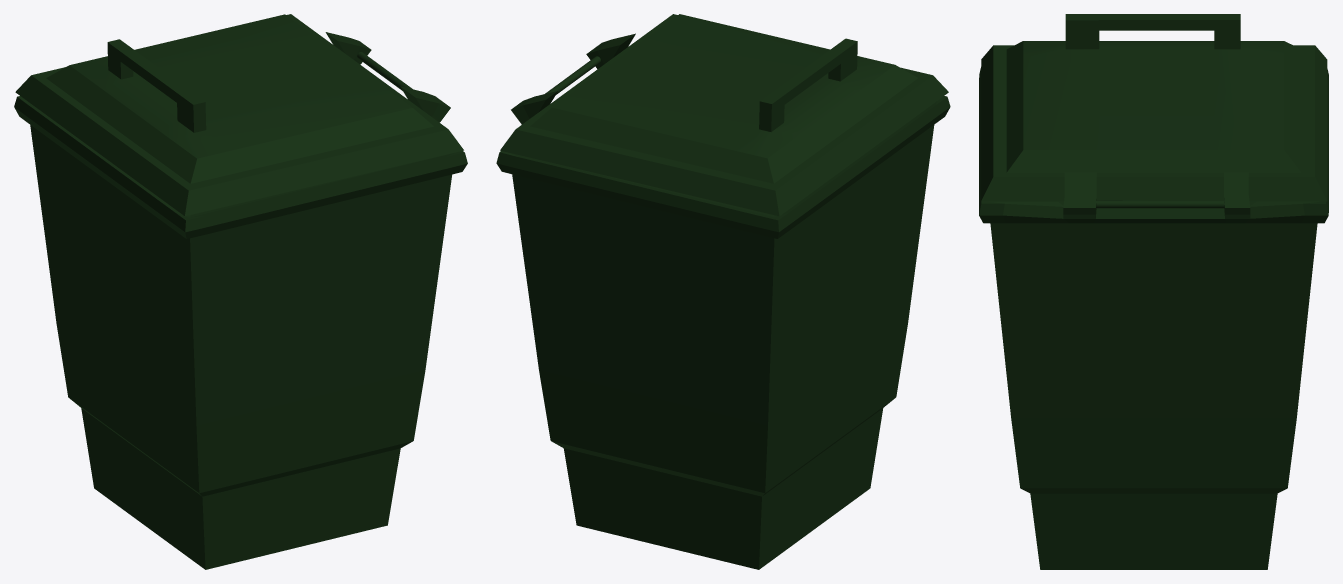
Rendered from trash_green.FBX.
3 views of the same model, side by side, from view 1: azimuth 30°, elevation 25°; view 2: azimuth 150°, elevation 25°; view 3: azimuth 270°, elevation 25° (orthographic). The views are drawn at different scales.
Visible parts, largest first — view 1: Box001, Box002; view 2: Box001, Box002; view 3: Box001, Box002, Cylinder001.
Part boxes in pixels (x1,y1,x2,y2): Box001: (14, 32, 467, 569); Box002: (15, 14, 463, 216); Box001: (496, 33, 950, 569); Box002: (500, 14, 948, 216); Box001: (979, 67, 1328, 569); Box002: (981, 14, 1327, 201); Cylinder001: (1096, 200, 1224, 208).
Bounding box in the file's own units: 41.51 × 58.88 × 40.14.
